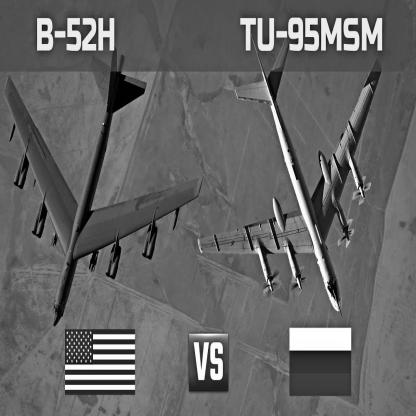B52: (5, 47, 204, 328)
Tu95: (198, 34, 383, 319)
